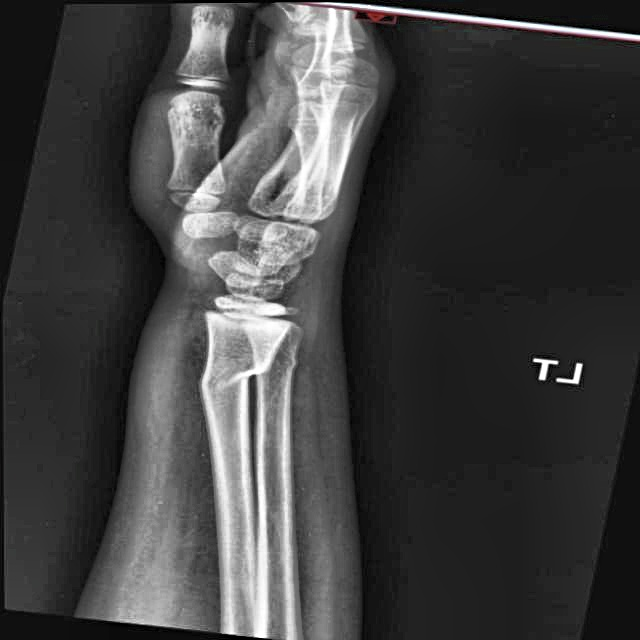Greenstick: (214, 337, 292, 393)
